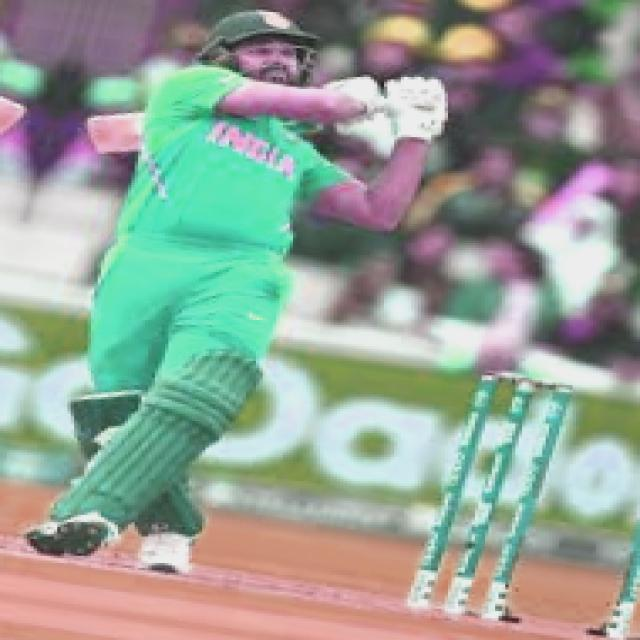toe: (69, 113, 125, 166)
